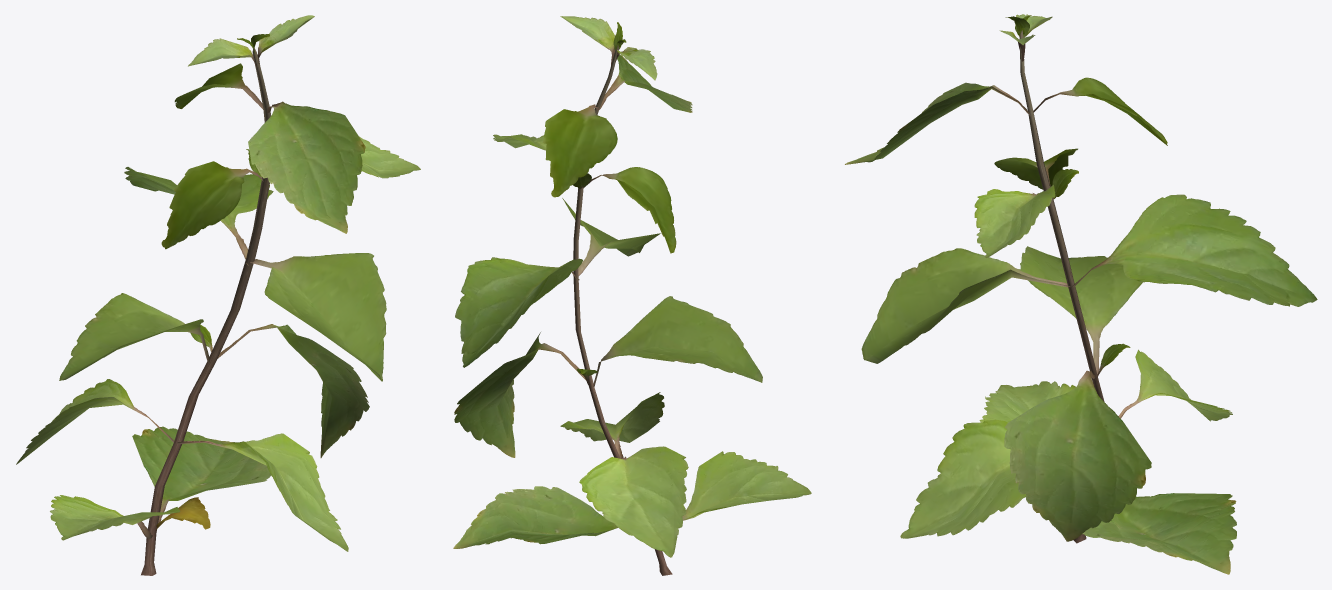
Rendered from shrub_b.glb.
3 views of the same model, side by side, from view 1: azimuth 30°, elevation 25°; view 2: azimuth 150°, elevation 25°; view 3: azimuth 270°, elevation 25° (orthographic). The views are drawn at different scales.
Visible parts, largest first — view 1: Forest_shrub_b; view 2: Forest_shrub_b; view 3: Forest_shrub_b.
Boxes of the visible parts, bbox=[...] form: Forest_shrub_b: bbox=[16, 15, 420, 575]; Forest_shrub_b: bbox=[453, 16, 811, 575]; Forest_shrub_b: bbox=[845, 14, 1317, 574].
Size of the model in its own units: 0.1354 by 0.2006 by 0.1523.
1 material, 1 textured.
